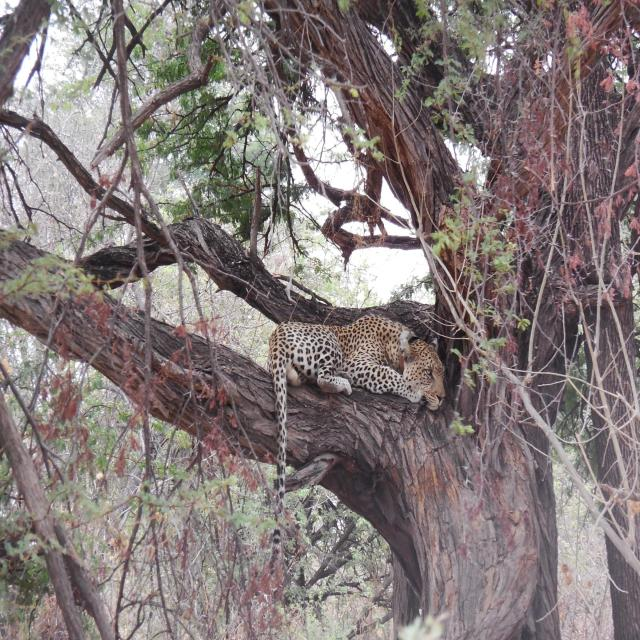Leopard: (270, 306, 447, 576)
